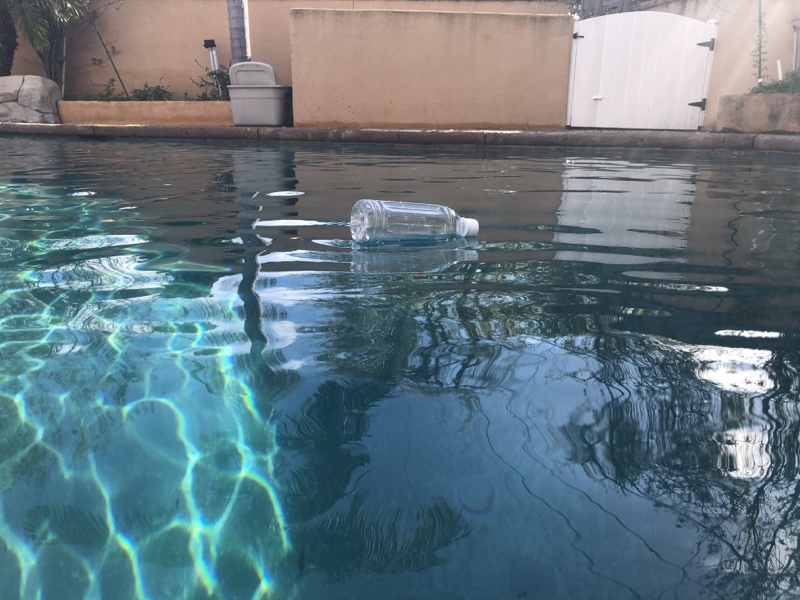Plastic Bottle: (349, 199, 482, 246)
